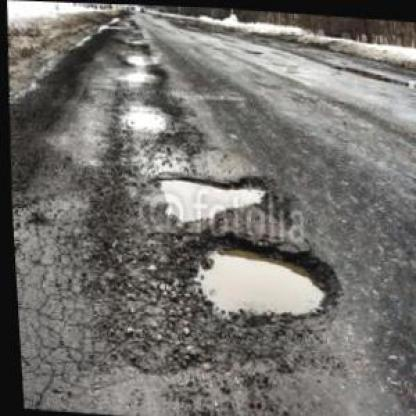pothole: (173, 224, 340, 328), (148, 164, 272, 228), (116, 98, 166, 136), (119, 65, 158, 83), (125, 50, 155, 65)
